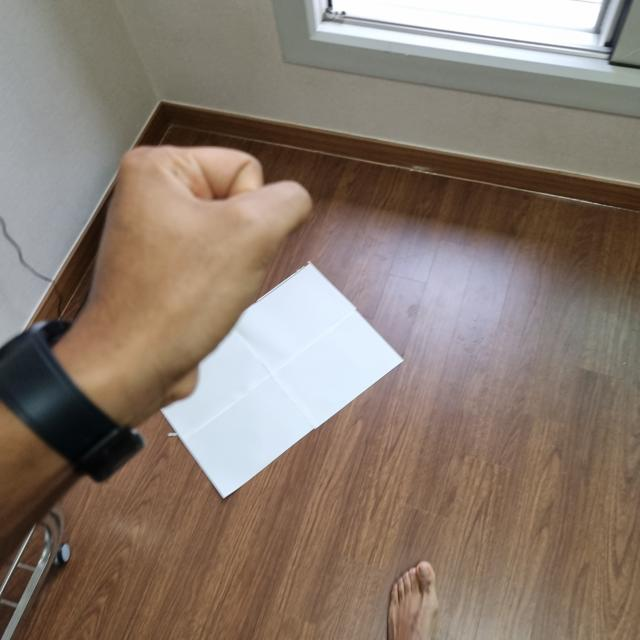Rock: (61, 144, 315, 422)
